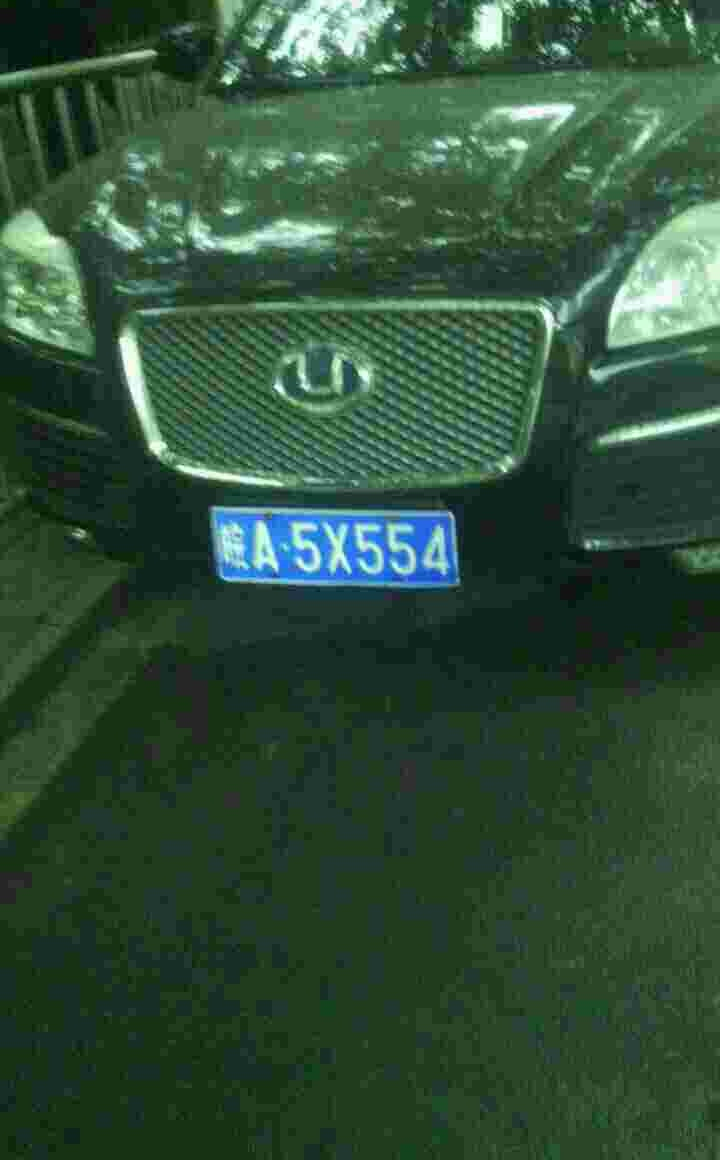license_plate: (223, 516, 473, 586)
